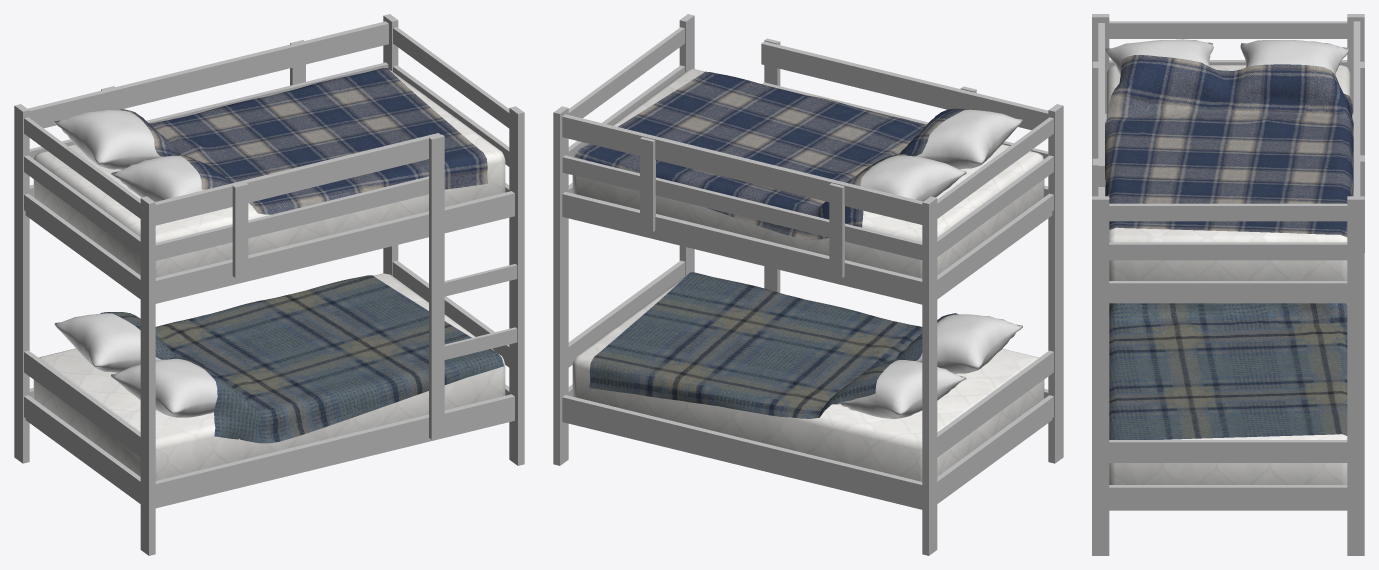
Rendered from Bunk Bed.obj.
3 renders of one model, left to right at view 1: azimuth 30°, elevation 25°; view 2: azimuth 150°, elevation 25°; view 3: azimuth 270°, elevation 25°, orthographic.
Parts seen in each view (by area): view 1: Bed_Frame, Blanket_Bottom, Blanket_Top, Matress_Bottom, Matress_Top, Pillows_Bottom, Pillows_Top; view 2: Bed_Frame, Blanket_Bottom, Blanket_Top, Matress_Bottom, Matress_Top, Pillows_Bottom, Pillows_Top; view 3: Bed_Frame, Blanket_Top, Blanket_Bottom, Matress_Top, Matress_Bottom, Pillows_Top.
Boxes of the visible parts, box(x1,y1,x2,y2) form: Bed_Frame: box(14, 14, 524, 555); Blanket_Bottom: box(100, 275, 503, 443); Blanket_Top: box(119, 68, 488, 214); Matress_Bottom: box(33, 273, 505, 480); Matress_Top: box(33, 70, 505, 277); Pillows_Bottom: box(54, 313, 217, 417); Pillows_Top: box(54, 110, 203, 201); Bed_Frame: box(553, 14, 1063, 555); Blanket_Bottom: box(589, 272, 958, 418); Blanket_Top: box(574, 71, 976, 239); Matress_Bottom: box(572, 274, 1044, 481); Matress_Top: box(572, 69, 1044, 278); Pillows_Bottom: box(837, 314, 1022, 418); Pillows_Top: box(860, 109, 1022, 201); Bed_Frame: box(1092, 14, 1364, 555); Blanket_Top: box(1105, 55, 1353, 237); Blanket_Bottom: box(1109, 303, 1347, 439); Matress_Top: box(1106, 65, 1350, 280); Matress_Bottom: box(1109, 303, 1347, 484); Pillows_Top: box(1105, 39, 1348, 74).
Bounding box in the file's own units: 17.2 × 15.4 × 10.69.
